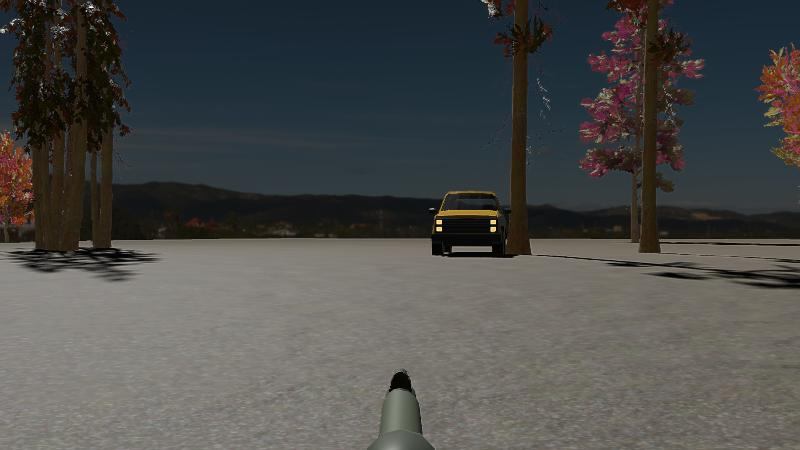car: (429, 188, 509, 258)
